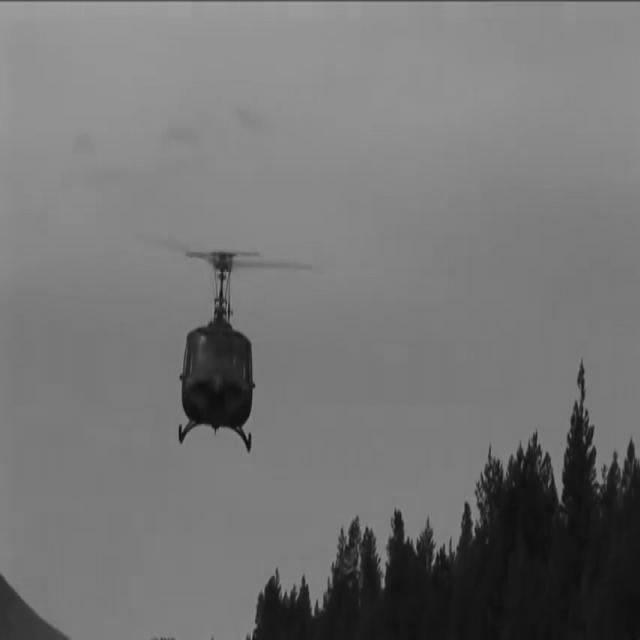helikopter: (149, 248, 293, 473)
